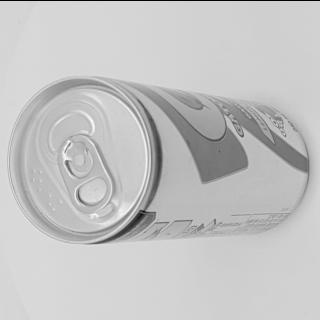alumunium_can: (6, 71, 316, 248)
